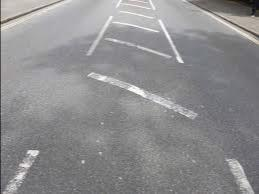faded_road_lines: (81, 66, 200, 124), (82, 18, 184, 64), (210, 129, 256, 194), (0, 148, 42, 194), (105, 0, 164, 16)
